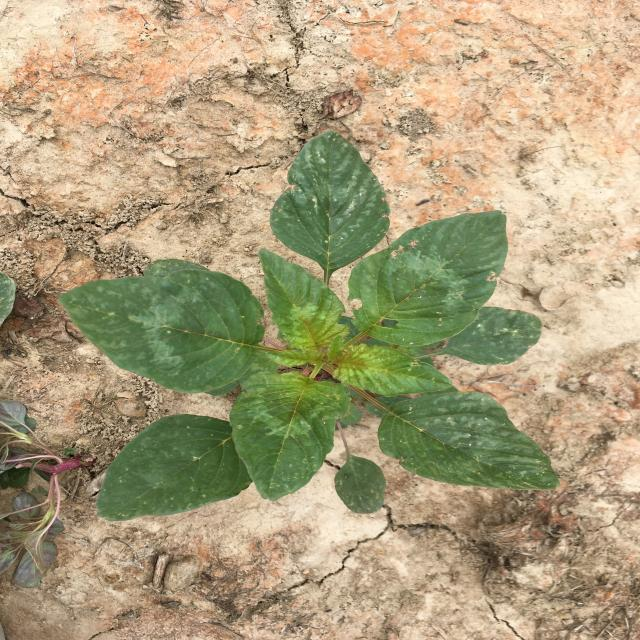PalmerAmaranth: (58, 131, 561, 522)
